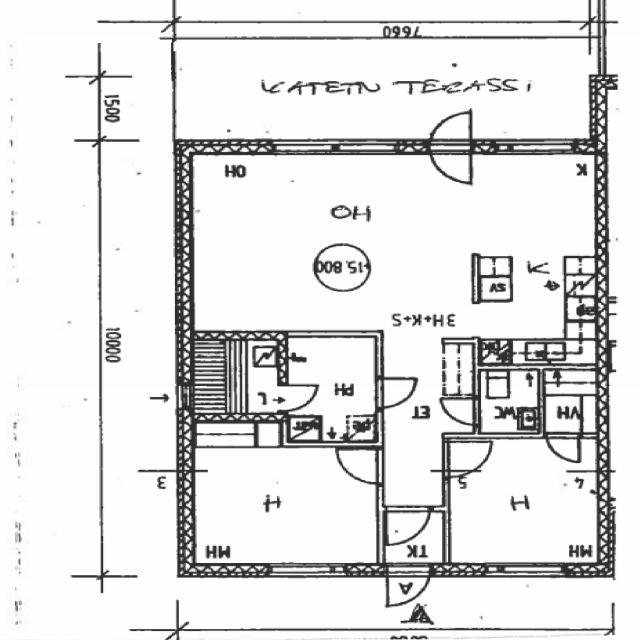door: (387, 562, 430, 610), (430, 138, 471, 186), (430, 106, 471, 154), (442, 441, 494, 478), (386, 505, 430, 547), (336, 450, 384, 482), (378, 378, 420, 408), (439, 397, 480, 425), (277, 386, 319, 410), (548, 432, 579, 463)
